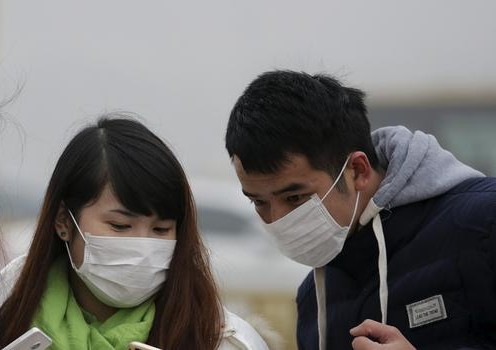with_mask: (226, 141, 385, 267), (50, 171, 180, 311)
